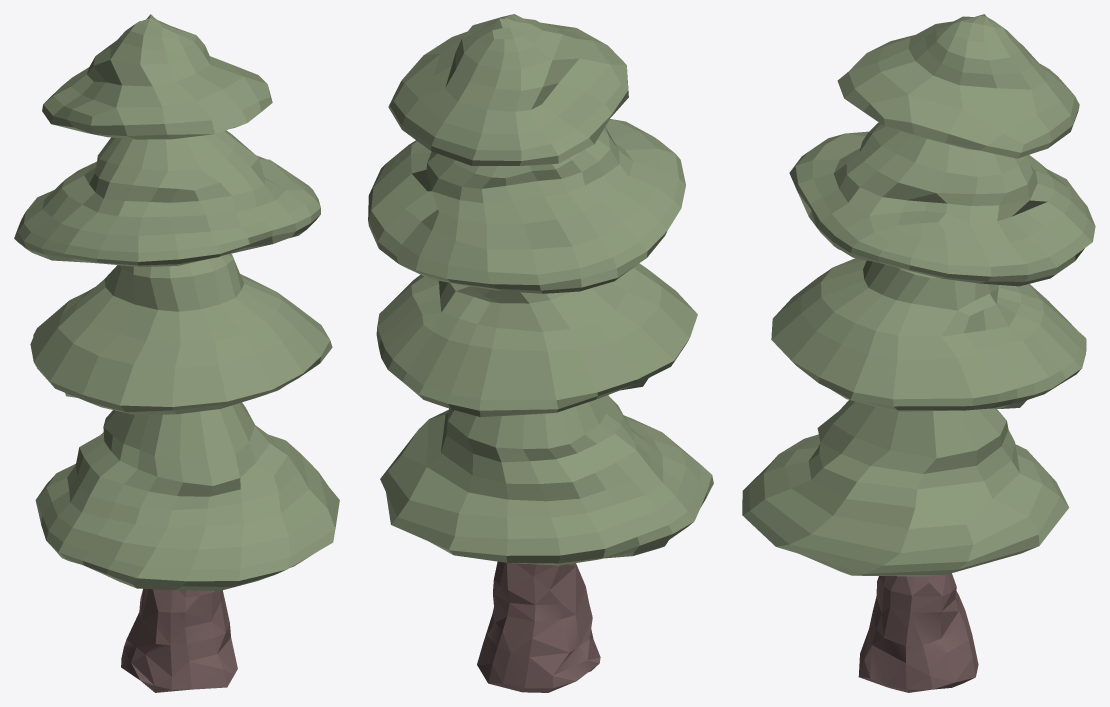
The model's file is Tree_2.fbx.
3 renders of one model, left to right at view 1: azimuth 30°, elevation 25°; view 2: azimuth 150°, elevation 25°; view 3: azimuth 270°, elevation 25°, orthographic. The views are drawn at different scales.
Visible parts, largest first — view 1: pCylinder6; view 2: pCylinder6; view 3: pCylinder6.
Part boxes in pixels (x1,y1,x2,y2): pCylinder6: (14,14,339,692); pCylinder6: (368,14,713,692); pCylinder6: (742,14,1095,692).
Bounding box in the file's own units: 296 × 671 × 326.
